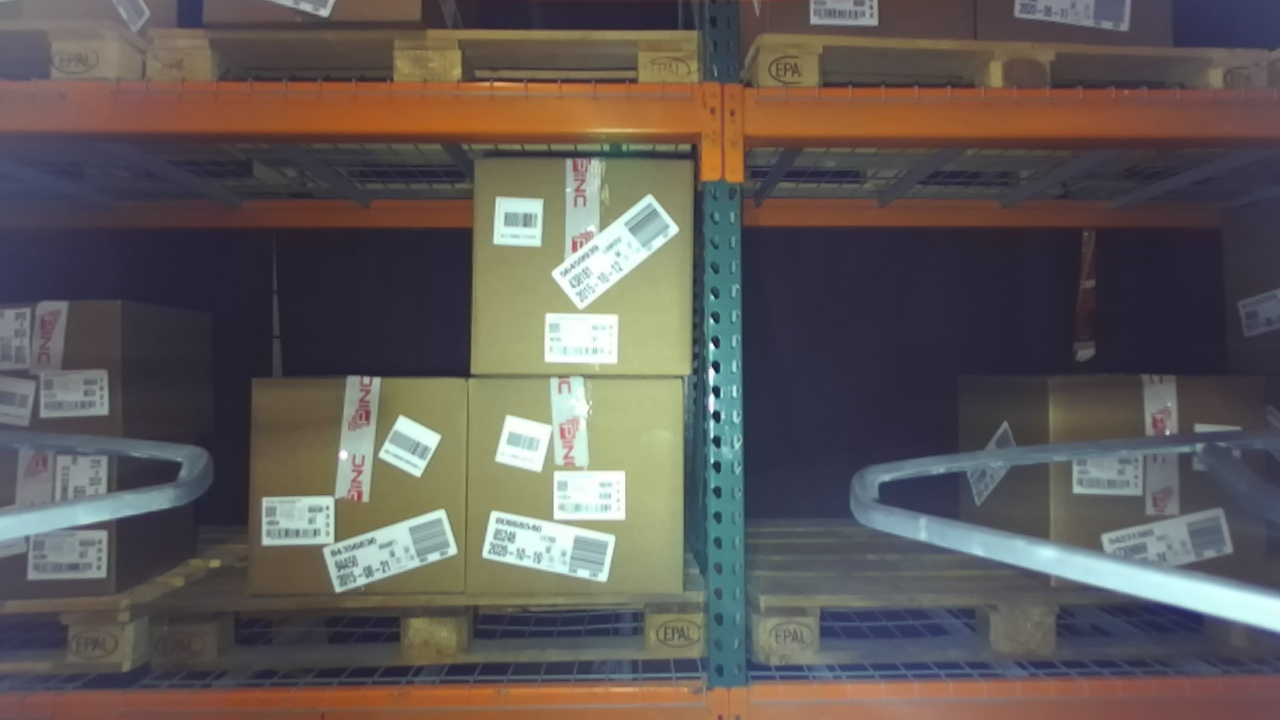box: (1017, 343, 1280, 640), (228, 369, 480, 632), (439, 356, 692, 614), (452, 143, 699, 398), (1, 420, 142, 618), (1, 276, 140, 476)
